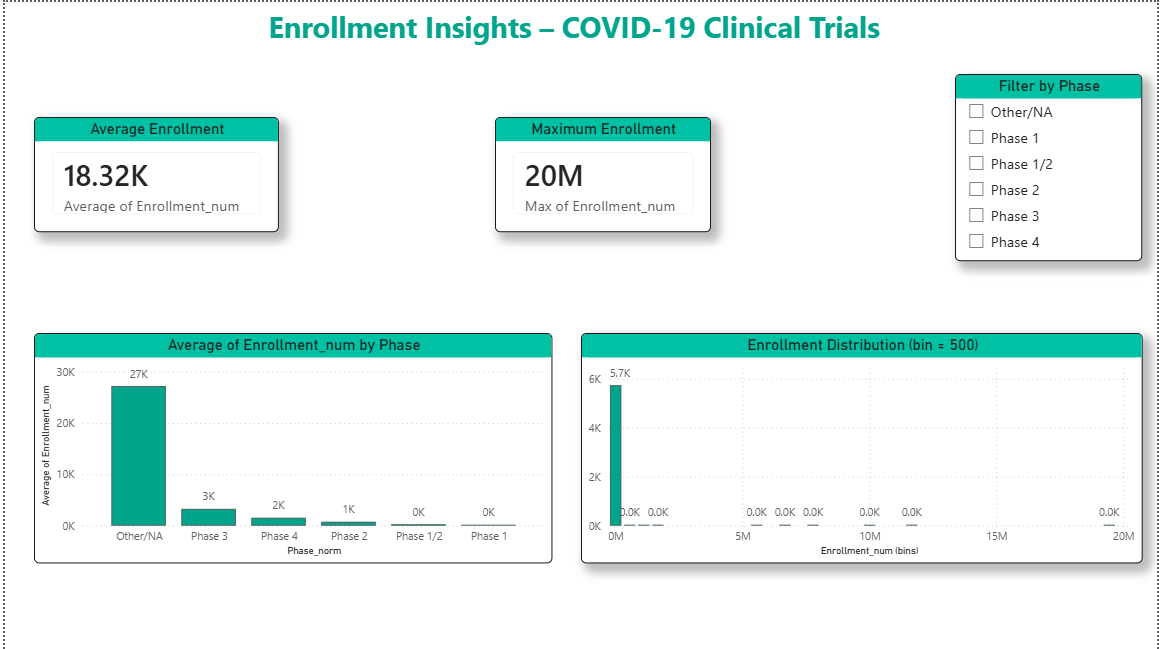

The dashboard page shown, as its layout file describes it:
{"tool":"powerbi","page":{"name":"Enrollment Insights","canvas":[1280,720],"ordinal":2},"visuals":[{"type":"textbox","box":[288,0,704,80],"z":0},{"type":"cardVisual","title":"Average Enrollment","fields":{"Data":["Avg(v_covid_clinical_trials.Enrollment_num)"]},"box":[32,128,272,128],"z":1000},{"type":"cardVisual","title":"Maximum Enrollment","fields":{"Data":["Max(v_covid_clinical_trials.Enrollment_num)"]},"box":[544,128,240,128],"z":2000},{"type":"clusteredColumnChart","title":"Average of Enrollment_num by Phase","fields":{"Category":["v_covid_clinical_trials.Phase_norm"],"Y":["Avg(v_covid_clinical_trials.Enrollment_num)"]},"box":[32,368,576,256],"z":3000},{"type":"clusteredColumnChart","title":"Enrollment Distribution (bin = 500)","fields":{"Category":["v_covid_clinical_trials.Enrollment_num (bins)"],"Y":["CountNonNull(v_covid_clinical_trials.Rank)"]},"box":[640,368,624,256],"z":4000},{"type":"slicer","title":"Filter by Phase","fields":{"Values":["v_covid_clinical_trials.Phase_norm"]},"box":[1056,80,208,208],"z":5000}]}

Visuals, with their boxes in screenshot pixels (x1, y1, x2, y2), scaled from the page's 1280x720 canvas onto the 1160x649 screenshot:
textbox: [x1=261, y1=0, x2=899, y2=72]
"Average Enrollment" cardVisual: [x1=29, y1=115, x2=276, y2=231]
"Maximum Enrollment" cardVisual: [x1=493, y1=115, x2=710, y2=231]
"Average of Enrollment_num by Phase" clusteredColumnChart: [x1=29, y1=332, x2=551, y2=562]
"Enrollment Distribution (bin = 500)" clusteredColumnChart: [x1=580, y1=332, x2=1146, y2=562]
"Filter by Phase" slicer: [x1=957, y1=72, x2=1146, y2=260]
